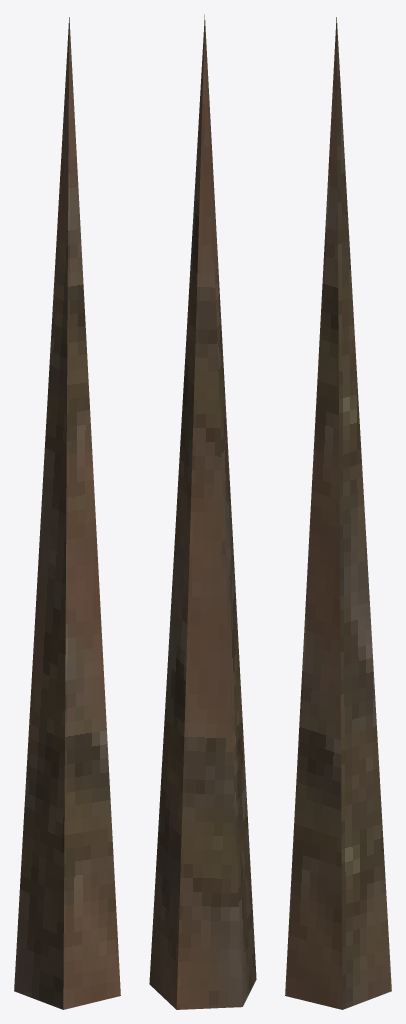
Rendered from tree_bare.glb.
3 renders of one model, left to right at view 1: azimuth 30°, elevation 25°; view 2: azimuth 150°, elevation 25°; view 3: azimuth 330°, elevation 25°, orthographic.
Parts seen in each view (by area): view 1: Cone; view 2: Cone; view 3: Cone.
Part boxes in pixels (box(x1,y1,x2,y2)): Cone: box(14, 17, 120, 1009); Cone: box(149, 14, 256, 1009); Cone: box(285, 17, 391, 1009).
Size of the model in its own units: 1.2 by 12 by 1.14.
1 material, 1 textured.
